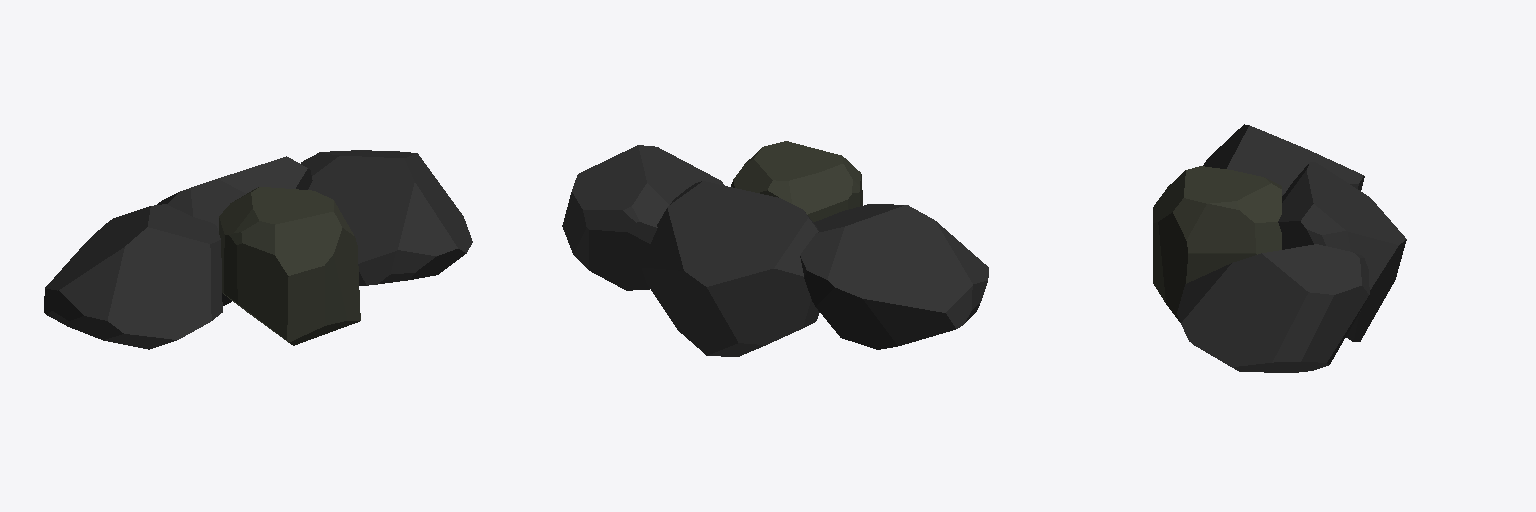
The model's file is StoneMine.obj.
3 views of the same model, side by side, from view 1: azimuth 30°, elevation 25°; view 2: azimuth 150°, elevation 25°; view 3: azimuth 270°, elevation 25° (orthographic).
Visible parts, largest first — view 1: stone01_Cube.037, stone2_Cube.023, stone01.001_Cube.021, stone01.002_Cube.028; view 2: stone01.002_Cube.028, stone01_Cube.037, stone01.001_Cube.021, stone2_Cube.023; view 3: stone01.001_Cube.021, stone2_Cube.023, stone01.002_Cube.028, stone01_Cube.037.
Part boxes in pixels (x1,y1,x2,y2): stone01_Cube.037: (44,204,222,349); stone2_Cube.023: (219,187,360,345); stone01.001_Cube.021: (301,150,472,285); stone01.002_Cube.028: (157,156,312,305); stone01.002_Cube.028: (642,181,819,356); stone01_Cube.037: (800,204,988,349); stone01.001_Cube.021: (562,145,724,290); stone2_Cube.023: (731,141,862,221); stone01.001_Cube.021: (1177,244,1369,372); stone2_Cube.023: (1153,166,1281,321); stone01.002_Cube.028: (1278,162,1406,341); stone01_Cube.037: (1203,124,1364,195).
Bounding box in the file's own units: 7.31 × 2.6 × 3.94.